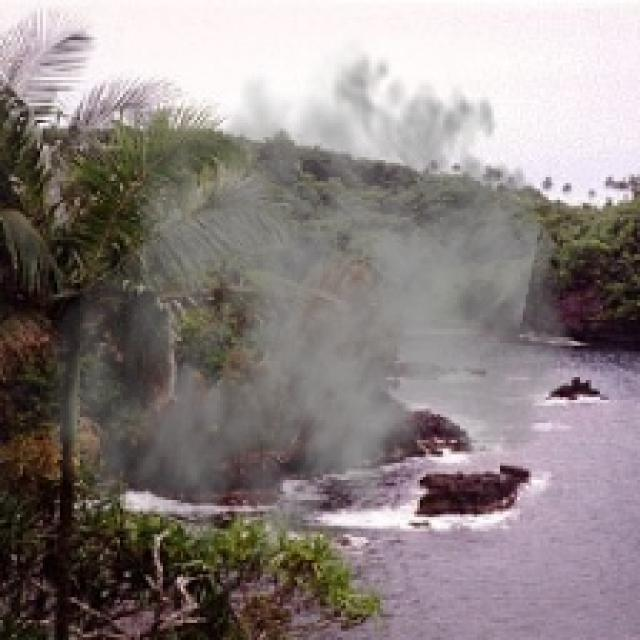smoke: (40, 31, 580, 600)
